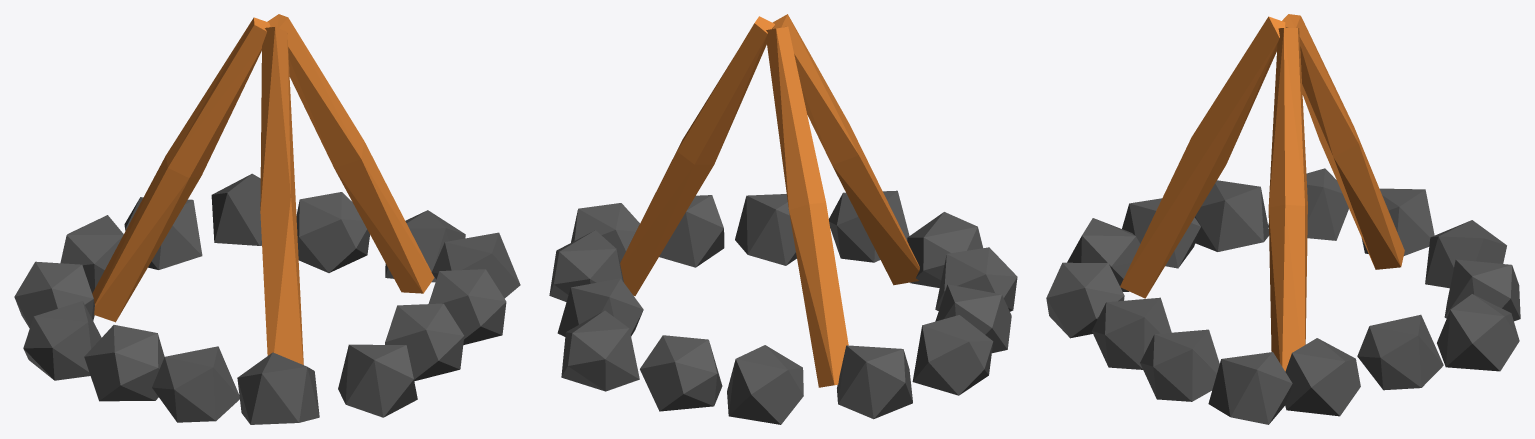
Rendered from campfire.fbx.
3 views of the same model, side by side, from view 1: azimuth 30°, elevation 25°; view 2: azimuth 150°, elevation 25°; view 3: azimuth 270°, elevation 25° (orthographic). The views are drawn at different scales.
Parts seen in each view (by area): view 1: Cylinder.001, Cylinder.002, Cylinder, Icosphere.006, Icosphere.005, Icosphere.007, Icosphere.013, Icosphere.008, Icosphere.009, Icosphere.004, Icosphere.010, Icosphere.003 (+5 smaller); view 2: Cylinder.001, Cylinder, Cylinder.002, Icosphere.001, Icosphere.004, Icosphere.002, Icosphere, Icosphere.003, Icosphere.009, Icosphere.012, Icosphere.007, Icosphere.010 (+5 smaller); view 3: Cylinder, Cylinder.002, Cylinder.001, Icosphere, Icosphere.013, Icosphere.010, Icosphere.011, Icosphere.012, Icosphere.005, Icosphere.008, Icosphere.009, Icosphere.002 (+5 smaller).
Boxes of the visible parts, x1,y1,x2,y2 form: Cylinder.001: [92, 17, 270, 322]; Cylinder.002: [260, 27, 303, 364]; Cylinder: [267, 14, 434, 293]; Icosphere.006: [152, 346, 239, 422]; Icosphere.005: [84, 325, 164, 401]; Icosphere.007: [237, 352, 319, 424]; Icosphere.013: [296, 192, 369, 272]; Icosphere.008: [338, 344, 417, 417]; Icosphere.009: [385, 303, 464, 381]; Icosphere.004: [23, 301, 101, 380]; Icosphere.010: [428, 269, 506, 344]; Icosphere.003: [14, 261, 94, 328]; Cylinder.001: [766, 26, 848, 387]; Cylinder: [620, 16, 774, 295]; Cylinder.002: [772, 14, 919, 285]; Icosphere.001: [640, 335, 722, 411]; Icosphere.004: [912, 315, 993, 395]; Icosphere.002: [727, 345, 803, 424]; Icosphere: [561, 310, 639, 391]; Icosphere.003: [837, 345, 912, 419]; Icosphere.009: [735, 194, 796, 265]; Icosphere.012: [549, 230, 623, 301]; Icosphere.007: [907, 212, 982, 287]; Icosphere.010: [659, 195, 724, 267]; Cylinder: [1268, 28, 1307, 371]; Cylinder.002: [1120, 16, 1285, 298]; Cylinder.001: [1282, 14, 1404, 269]; Icosphere: [1437, 294, 1519, 371]; Icosphere.013: [1357, 314, 1443, 390]; Icosphere.010: [1140, 329, 1219, 401]; Icosphere.011: [1208, 352, 1292, 424]; Icosphere.012: [1285, 338, 1360, 416]; Icosphere.005: [1195, 180, 1269, 251]; Icosphere.008: [1046, 262, 1124, 338]; Icosphere.009: [1092, 297, 1171, 369]; Icosphere.002: [1425, 220, 1506, 288].
Bounding box in the file's own units: 122 × 79.93 × 113.
